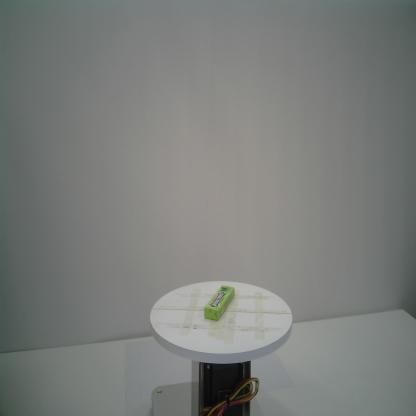Gum: (204, 286, 235, 320)
